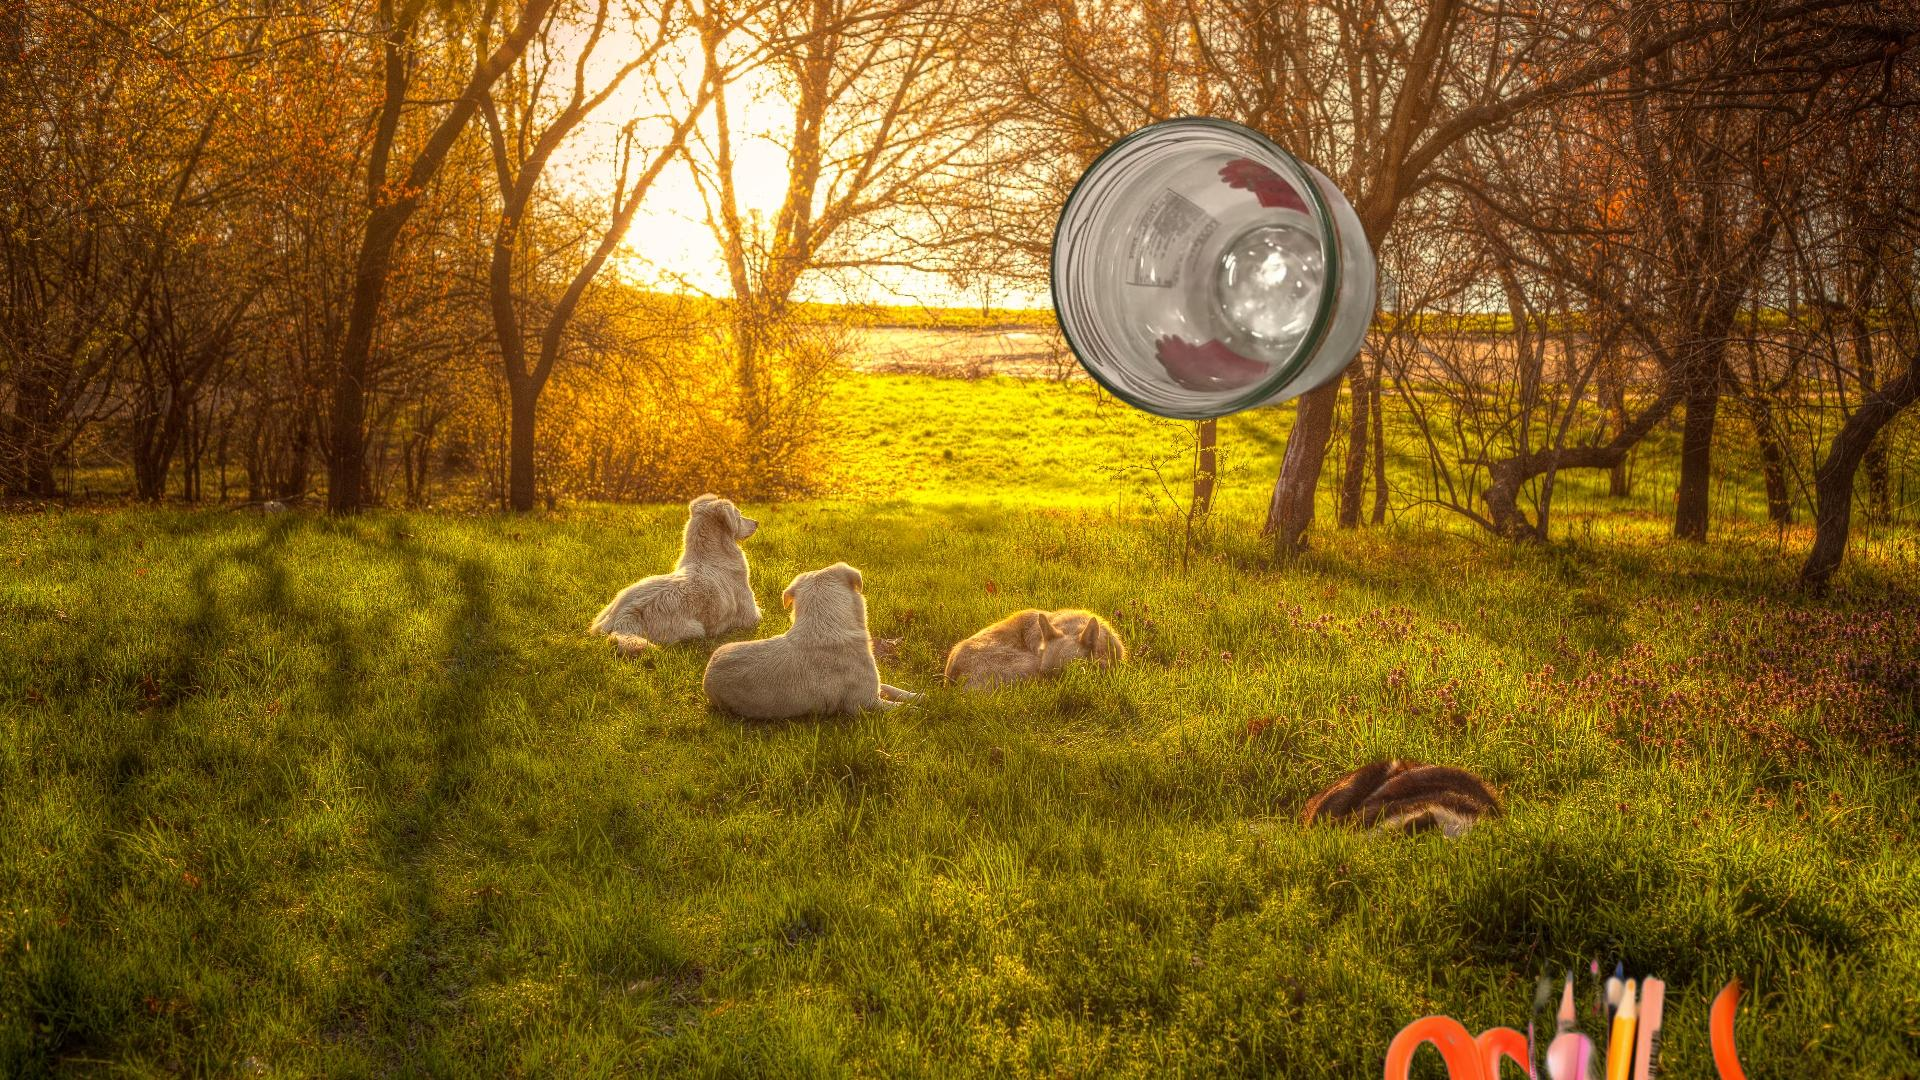glass: (1044, 112, 1404, 425)
penholder: (1377, 947, 1920, 1080)
